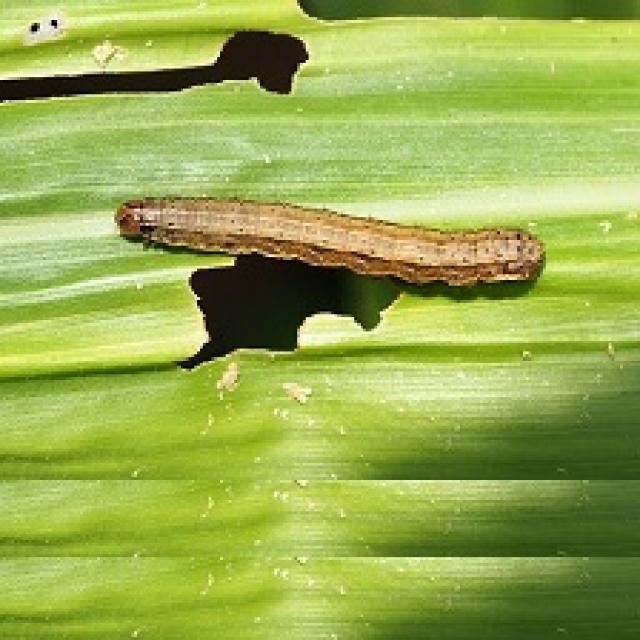worm: (112, 193, 547, 290)
